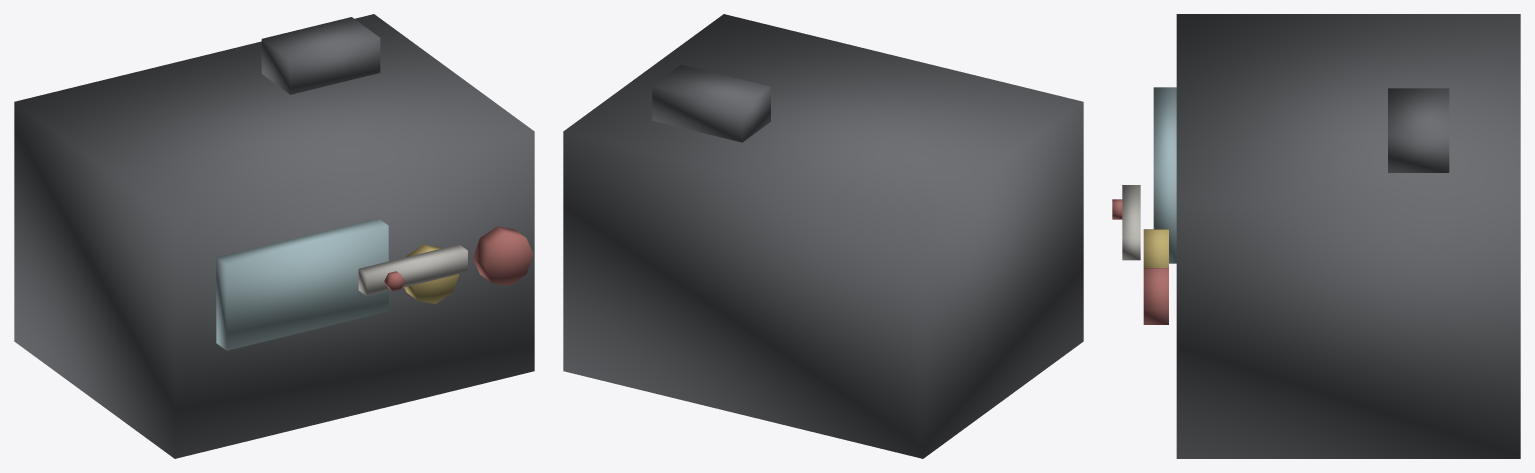
Rendered from bench_power_supply__service.glb.
3 views of the same model, side by side, from view 1: azimuth 30°, elevation 25°; view 2: azimuth 150°, elevation 25°; view 3: azimuth 270°, elevation 25° (orthographic). The views are drawn at different scales.
Visible parts, largest first — view 1: world; view 2: world; view 3: world.
Boxes of the visible parts, box(x1,y1,x2,y2) form: world: box(14, 14, 534, 458); world: box(563, 14, 1083, 458); world: box(1112, 14, 1520, 458).
Size of the model in its own units: 0.44 by 0.321 by 0.4035.
